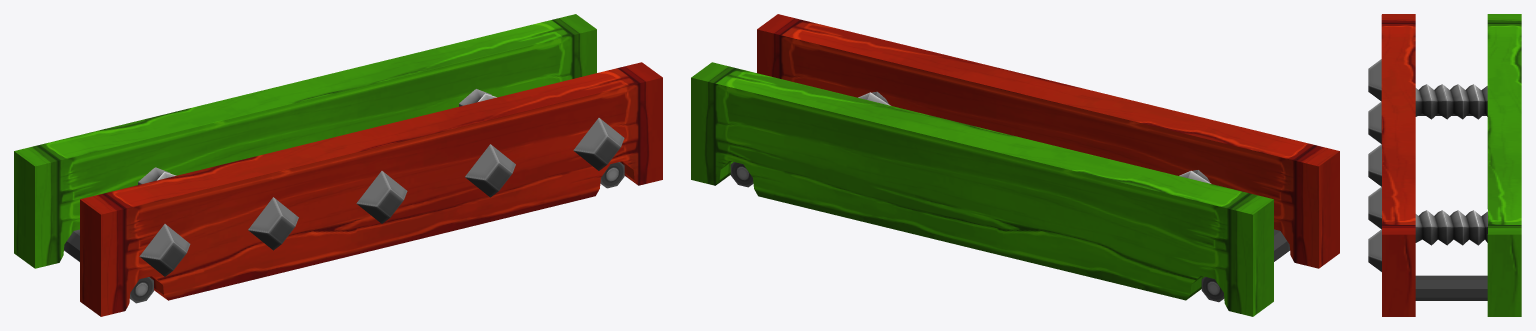
File: dynamic_fence_burger_03.fbx
3 views of the same model, side by side, from view 1: azimuth 30°, elevation 25°; view 2: azimuth 150°, elevation 25°; view 3: azimuth 270°, elevation 25° (orthographic). The views are drawn at different scales.
Visible parts, largest first — view 1: front_wall_16, back_wall_9; view 2: back_wall_9, front_wall_16; view 3: front_wall_16, back_wall_9, spring_20, spring_24.
Part boxes in pixels (x1,y1,x2,y2): front_wall_16: (80, 62, 662, 316); back_wall_9: (14, 14, 624, 303); back_wall_9: (691, 62, 1289, 316); front_wall_16: (757, 14, 1339, 268); front_wall_16: (1368, 14, 1415, 316); back_wall_9: (1415, 14, 1521, 316); spring_20: (1415, 210, 1487, 245); spring_24: (1415, 84, 1487, 119).
Size of the model in its own units: 230 by 40 by 67.66.
